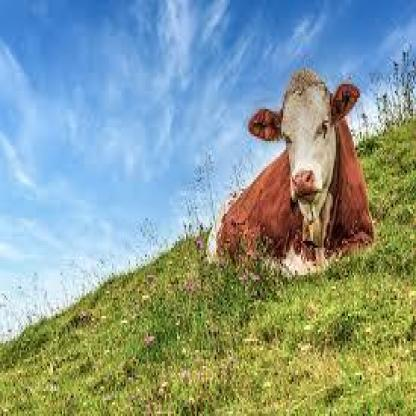cow: (208, 73, 374, 282)
